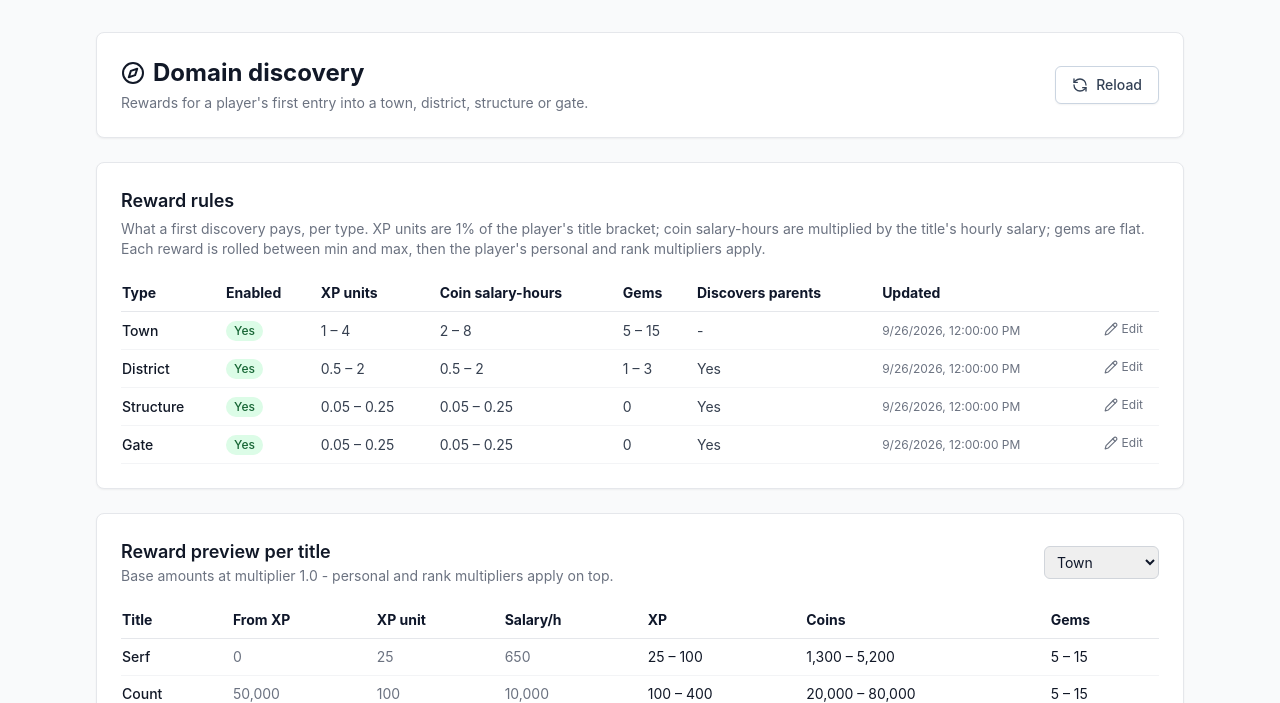
it: DiscoveryAdminPage › shows the API's reason when a rule is refused
Expected: the text "Serf" is shown, [121, 638, 232, 676]
Click the button with aria-label "Edit Town rule" at (1123, 328), box [1104, 320, 1143, 336]
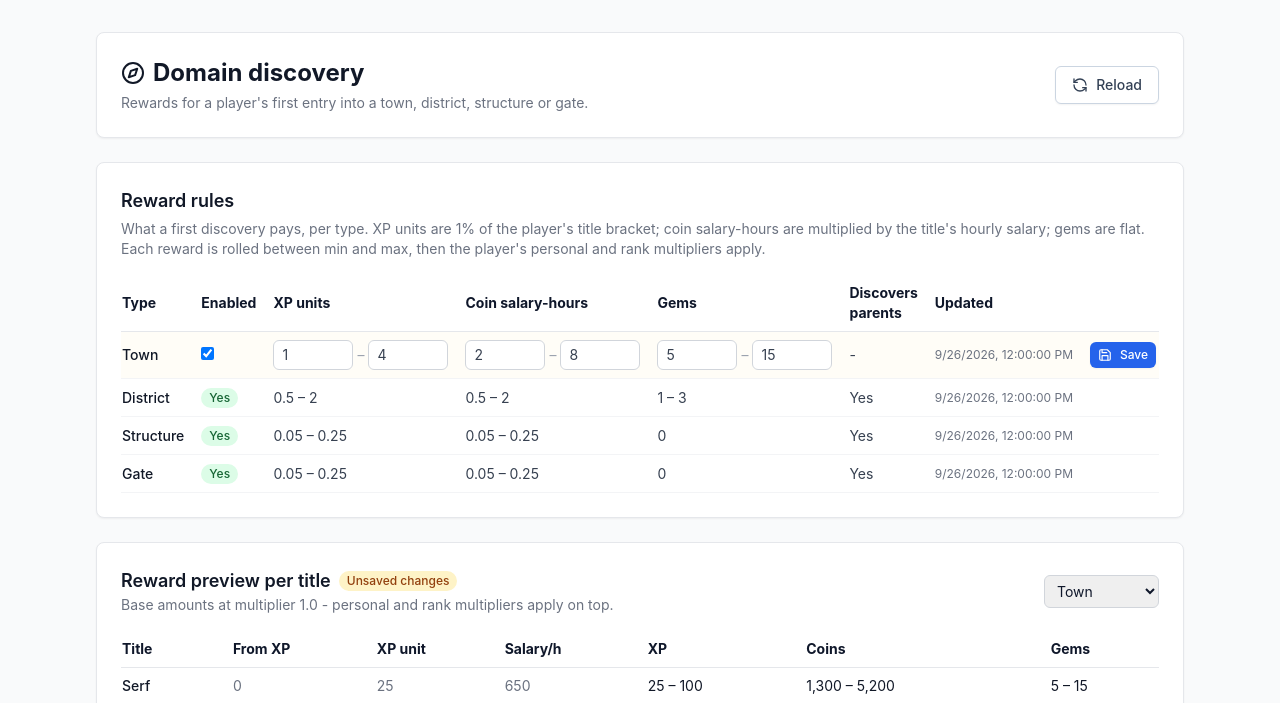
Click the button "Save" at (1123, 355), box [1090, 342, 1156, 368]
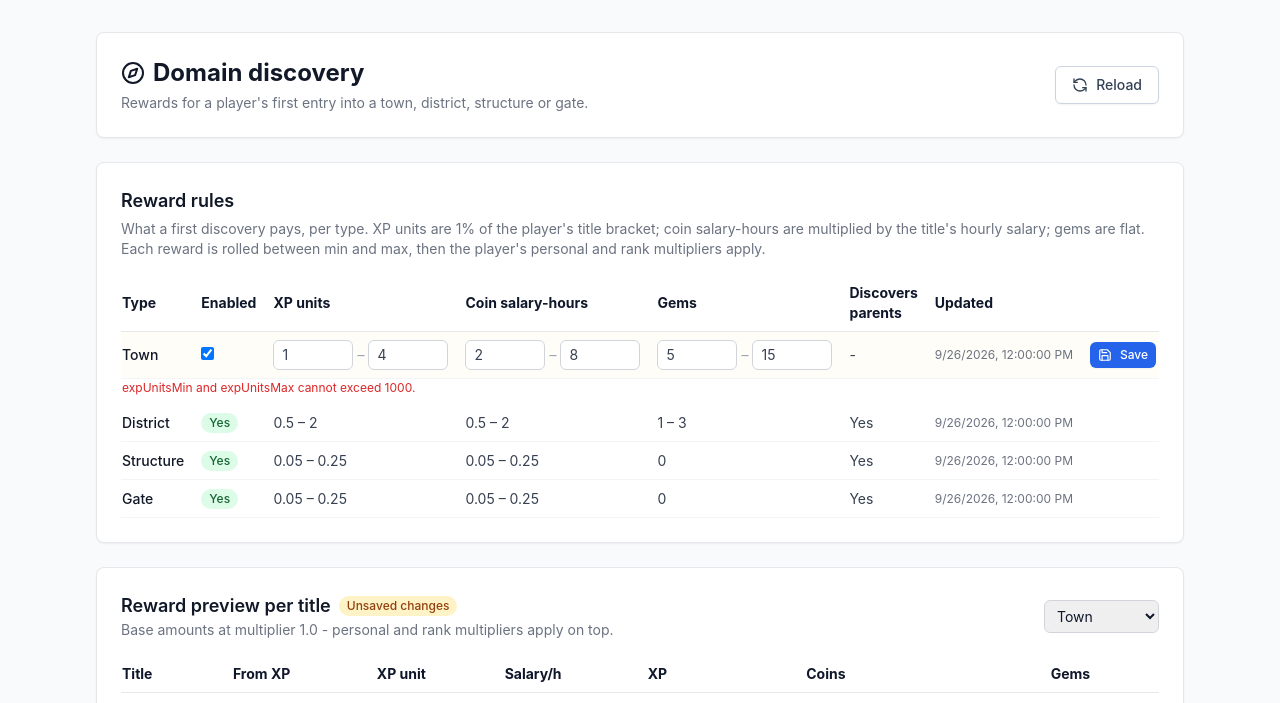
Expected: the text "expUnitsMin and expUnitsMax cannot exceed 1000." is shown, [122, 380, 415, 395]
